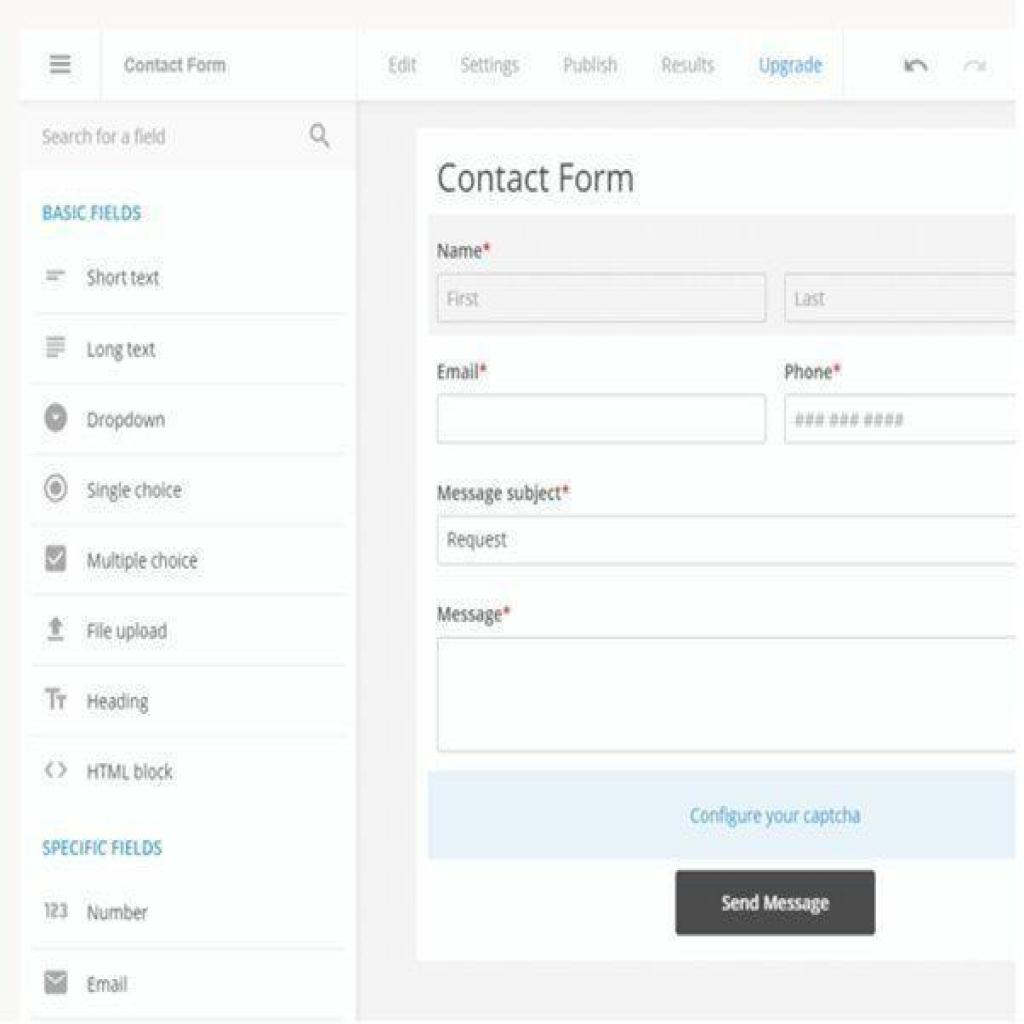icon: (38, 470, 73, 507), (305, 122, 340, 158), (39, 682, 72, 716), (42, 541, 70, 579), (37, 752, 70, 784), (39, 966, 72, 998), (42, 404, 72, 436), (961, 54, 997, 79), (38, 256, 64, 288), (41, 900, 73, 926), (43, 614, 68, 646), (46, 51, 76, 77), (44, 336, 70, 364), (902, 56, 928, 77)
input: (437, 513, 1017, 564), (437, 271, 766, 323), (437, 393, 766, 445), (674, 870, 876, 934), (784, 274, 1024, 322), (786, 396, 1024, 442)
label: (434, 156, 640, 201), (687, 793, 868, 836), (39, 118, 179, 152), (434, 481, 578, 507), (39, 197, 148, 231), (122, 49, 230, 81), (37, 834, 167, 859), (87, 543, 199, 571), (82, 754, 178, 784), (85, 474, 182, 502), (85, 336, 163, 366), (87, 406, 168, 432), (432, 601, 514, 626), (89, 618, 170, 643), (85, 263, 162, 289), (88, 688, 152, 718), (434, 237, 496, 265), (755, 53, 827, 77), (657, 49, 716, 77), (459, 54, 524, 79), (563, 51, 617, 79), (434, 359, 490, 385), (82, 904, 154, 922), (87, 973, 129, 998), (381, 49, 417, 77)
